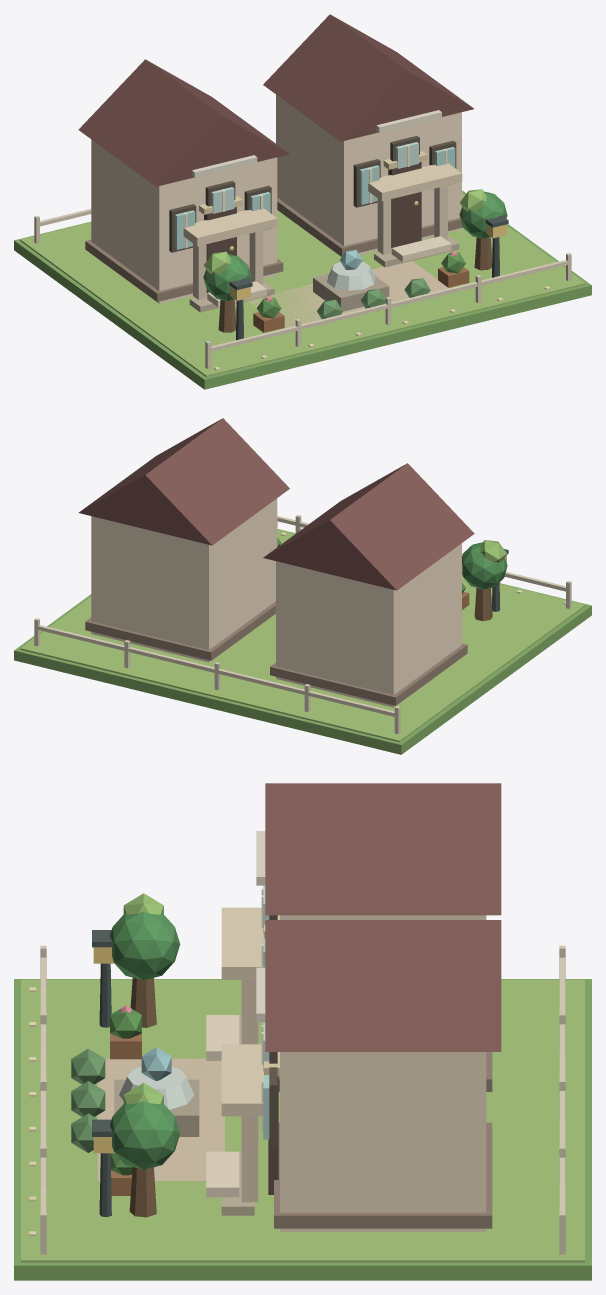
Rendered from hut-lv4.obj.
3 renders of one model, top to bottom at view 1: azimuth 30°, elevation 25°; view 2: azimuth 150°, elevation 25°; view 3: azimuth 270°, elevation 25°, orthographic. The views are drawn at different scales.
Parts seen in each view (by area): view 1: hut_4, hut_3, hut_1, hut_0, hut_19, hut_22, hut_16, hut_21, hut_18, hut_5, hut_27, hut_8 (+13 smaller); view 2: hut_3, hut_4, hut_1, hut_0, hut_16, hut_22, hut_27, hut_26, hut_28; view 3: hut_1, hut_4, hut_3, hut_0, hut_27, hut_19, hut_21, hut_16, hut_22, hut_12, hut_31, hut_18 (+12 smaller).
Part boxes in pixels (box(x1,y1,x2,y2)): hut_4: box(78, 14, 473, 186); hut_3: box(91, 94, 461, 303); hut_1: box(20, 193, 585, 376); hut_0: box(14, 190, 591, 389); hut_19: box(183, 163, 462, 246); hut_22: box(34, 208, 571, 368); hut_16: box(85, 198, 462, 301); hut_21: box(248, 261, 449, 328); hut_18: box(193, 185, 447, 299); hut_5: box(204, 162, 421, 292); hut_27: box(203, 191, 507, 301); hut_8: box(169, 136, 456, 252); hut_3: box(91, 498, 461, 707); hut_4: box(78, 418, 474, 590); hut_1: box(20, 529, 585, 742); hut_0: box(14, 529, 591, 754); hut_16: box(85, 601, 467, 705); hut_22: box(34, 514, 571, 734); hut_27: box(462, 542, 507, 589); hut_26: box(474, 587, 492, 621); hut_28: box(480, 540, 506, 562); hut_1: box(21, 979, 584, 1262); hut_4: box(265, 783, 501, 1051); hut_3: box(280, 915, 486, 1231); hut_0: box(14, 979, 591, 1280); hut_27: box(109, 912, 180, 1169); hut_19: box(221, 907, 263, 1116); hut_21: box(97, 1058, 224, 1180); hut_16: box(274, 1052, 492, 1228); hut_22: box(40, 945, 565, 1254); hut_12: box(206, 1015, 239, 1197); hut_31: box(71, 1048, 105, 1152); hut_18: box(241, 980, 258, 1202).
Bounding box in the file's own units: 5.75 × 2.67 × 4.9.
